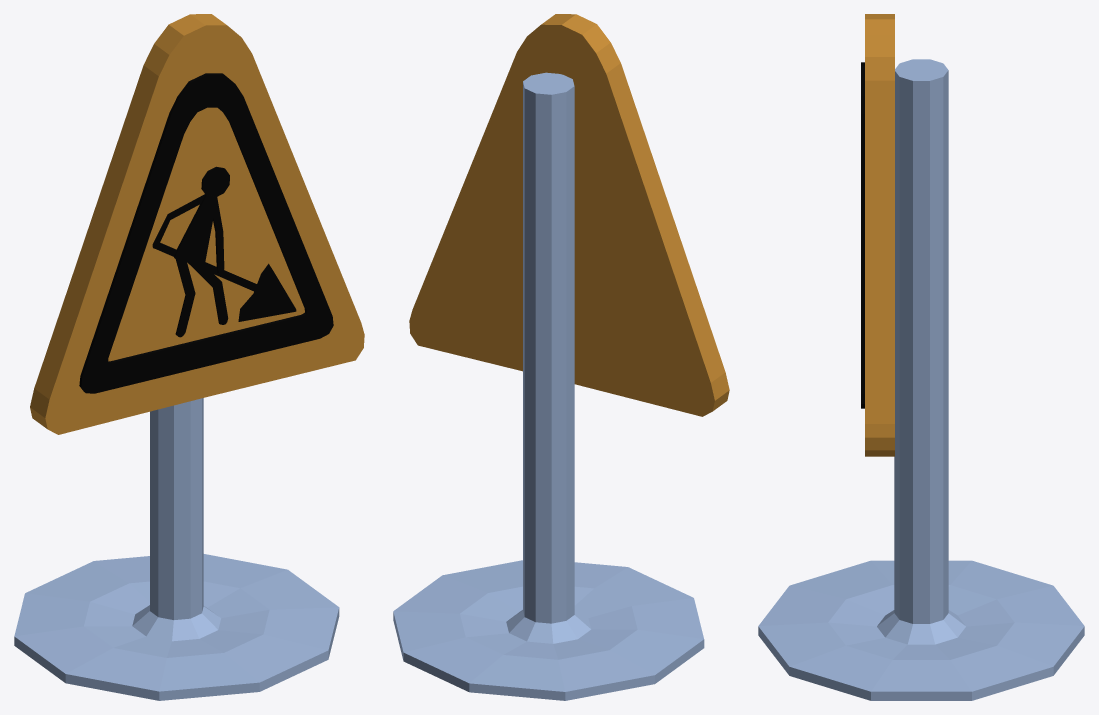
File: Sign_1.fbx
3 views of the same model, side by side, from view 1: azimuth 30°, elevation 25°; view 2: azimuth 150°, elevation 25°; view 3: azimuth 270°, elevation 25° (orthographic). The views are drawn at different scales.
Visible parts, largest first — view 1: Construction Sign; view 2: Construction Sign; view 3: Construction Sign.
Boxes of the visible parts, x1,y1,x2,y2 form: Construction Sign: (14, 14, 364, 700); Construction Sign: (393, 14, 729, 700); Construction Sign: (758, 14, 1084, 700).
Size of the model in its own units: 129 by 241 by 116.
